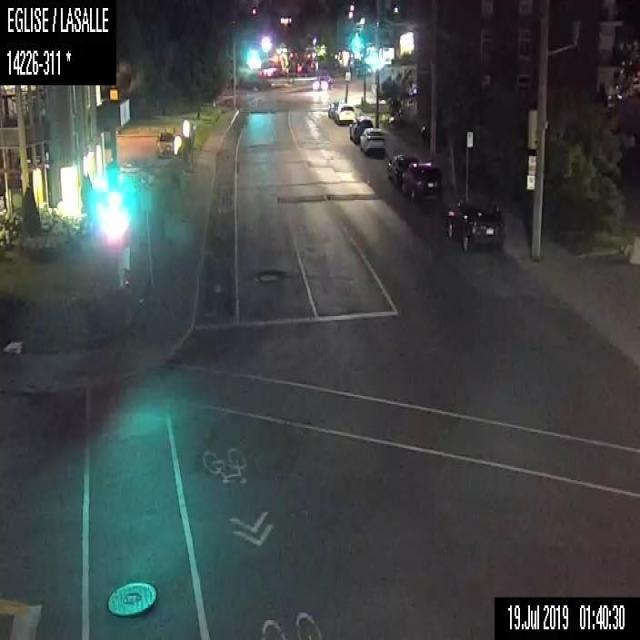vehicle: (441, 199, 501, 252), (401, 162, 442, 202), (384, 151, 416, 186), (347, 115, 373, 143), (360, 128, 384, 155), (155, 125, 174, 157), (334, 102, 356, 126), (312, 70, 334, 90), (326, 98, 338, 117)
